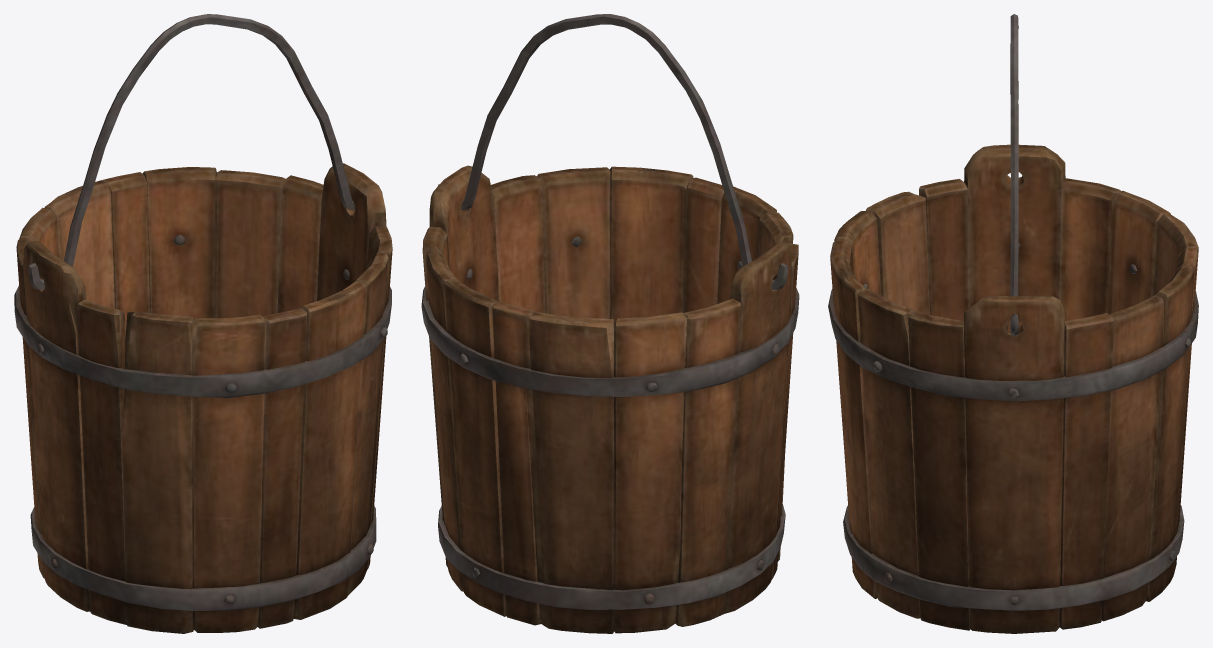
File: wooden_bucket_01.glb
The picture shows the model from 3 angles, left to right: view 1: azimuth 30°, elevation 25°; view 2: azimuth 150°, elevation 25°; view 3: azimuth 270°, elevation 25°; orthographic projection.
Parts seen in each view (by area): view 1: wooden_bucket_01; view 2: wooden_bucket_01; view 3: wooden_bucket_01.
Boxes of the visible parts, left/top/right/bottom form: wooden_bucket_01: left=14, top=14, right=392, bottom=633; wooden_bucket_01: left=421, top=14, right=799, bottom=633; wooden_bucket_01: left=828, top=14, right=1198, bottom=633.
Bounding box in the file's own units: 0.367 × 0.5499 × 0.3419.
1 material, 1 textured.
